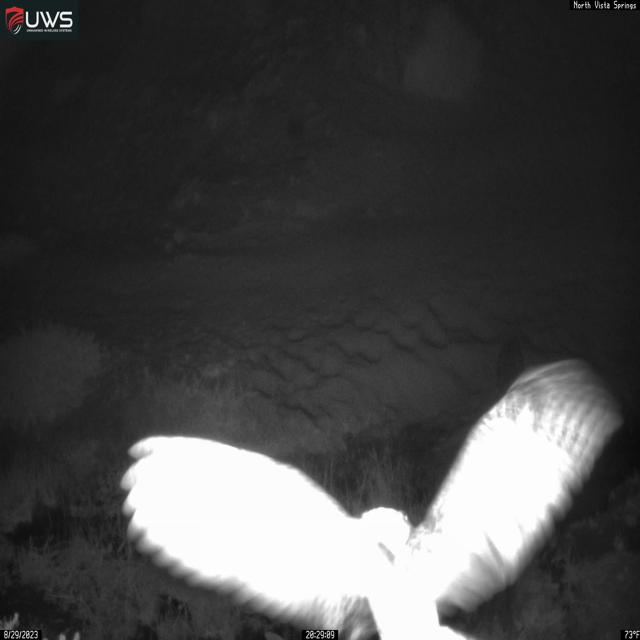bird: (120, 358, 626, 640)
